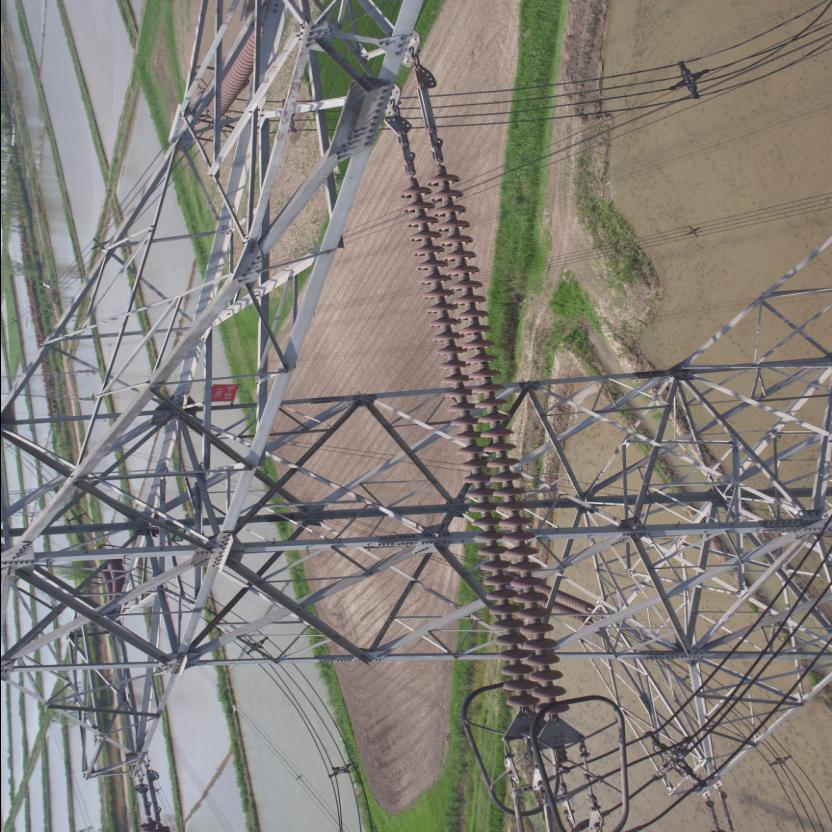insulator: (394, 137, 571, 728)
